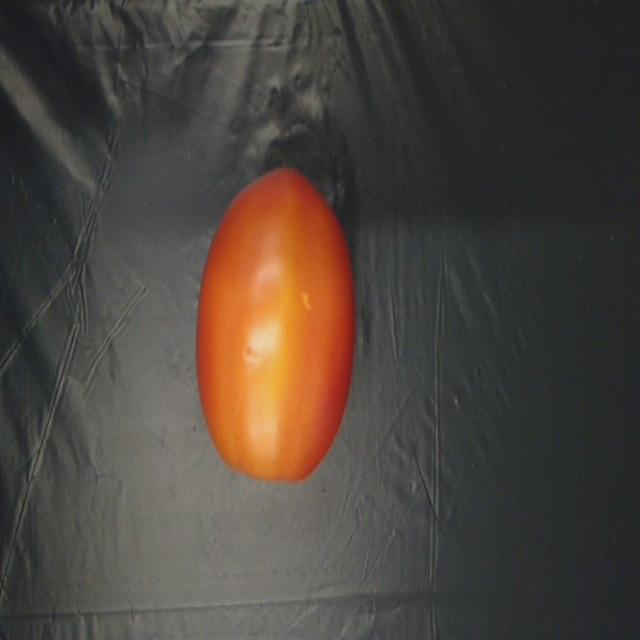sari: (189, 162, 357, 507)
